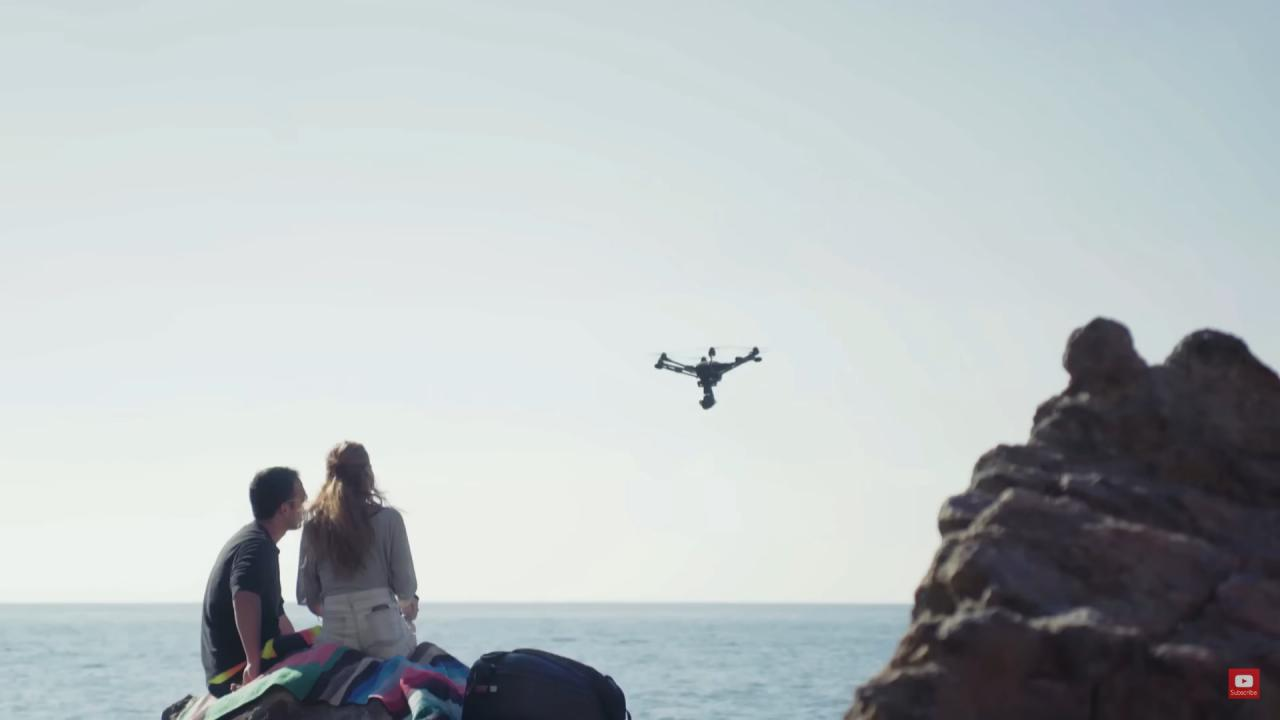Drone: (643, 332, 777, 419)
